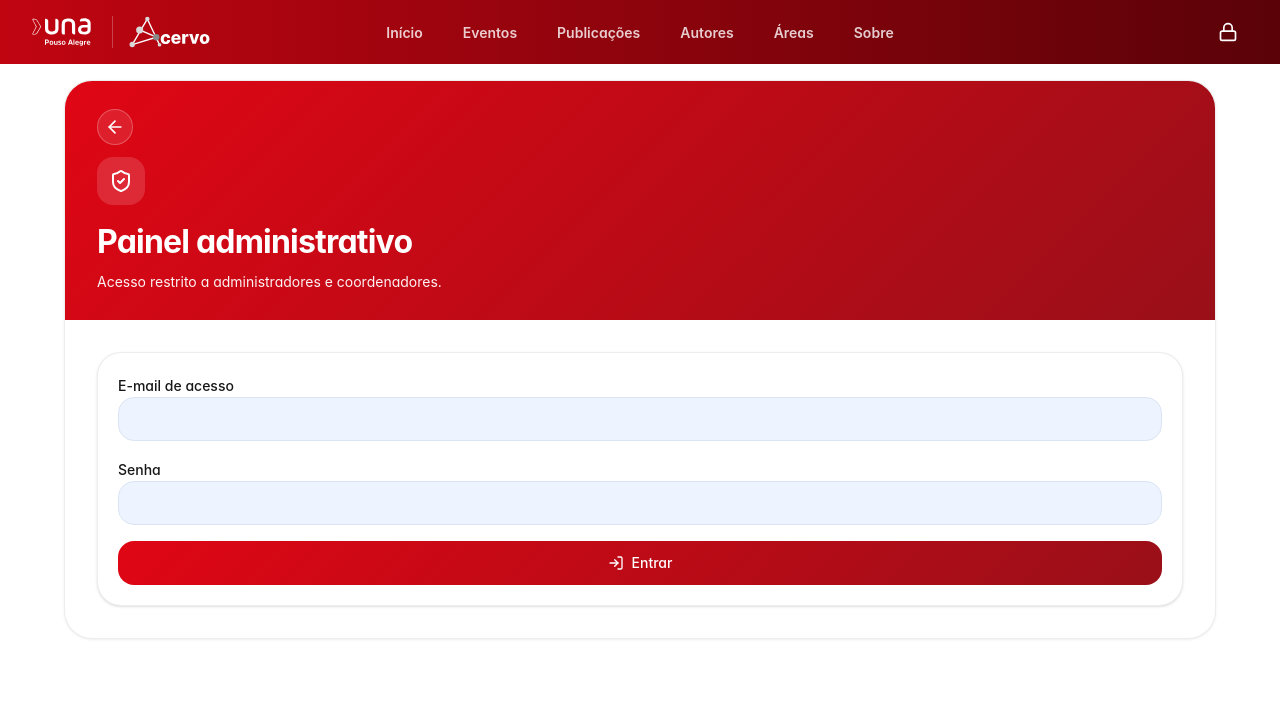
Test case: AdminLogin › shows the lockout timer when the API blocks repeated attempts
The width and height of the screenshot is (1280, 720).
Type "admin@acervo.edu" into the field labelled "E-mail de acesso" at {"x": 640, "y": 419}, box [118,397,1162,441]
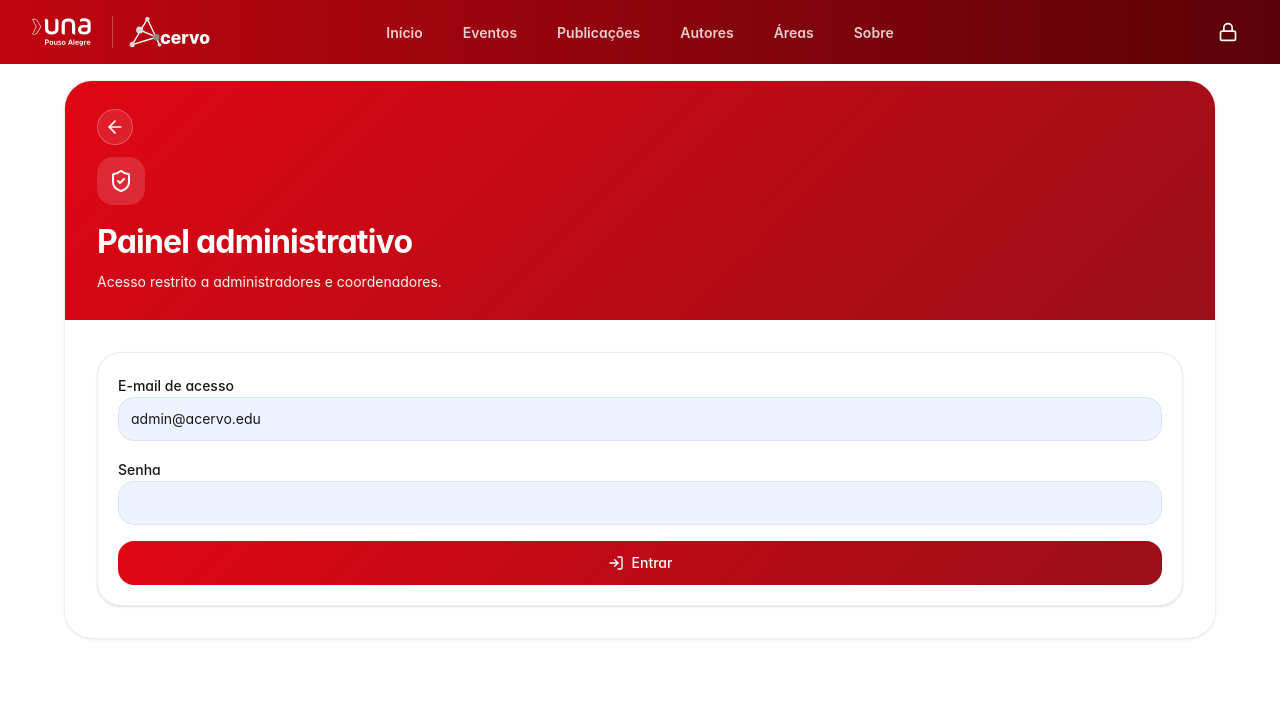
Type "senha-incorreta" into the password field labelled "Senha" at {"x": 640, "y": 503}, box [118,481,1162,525]
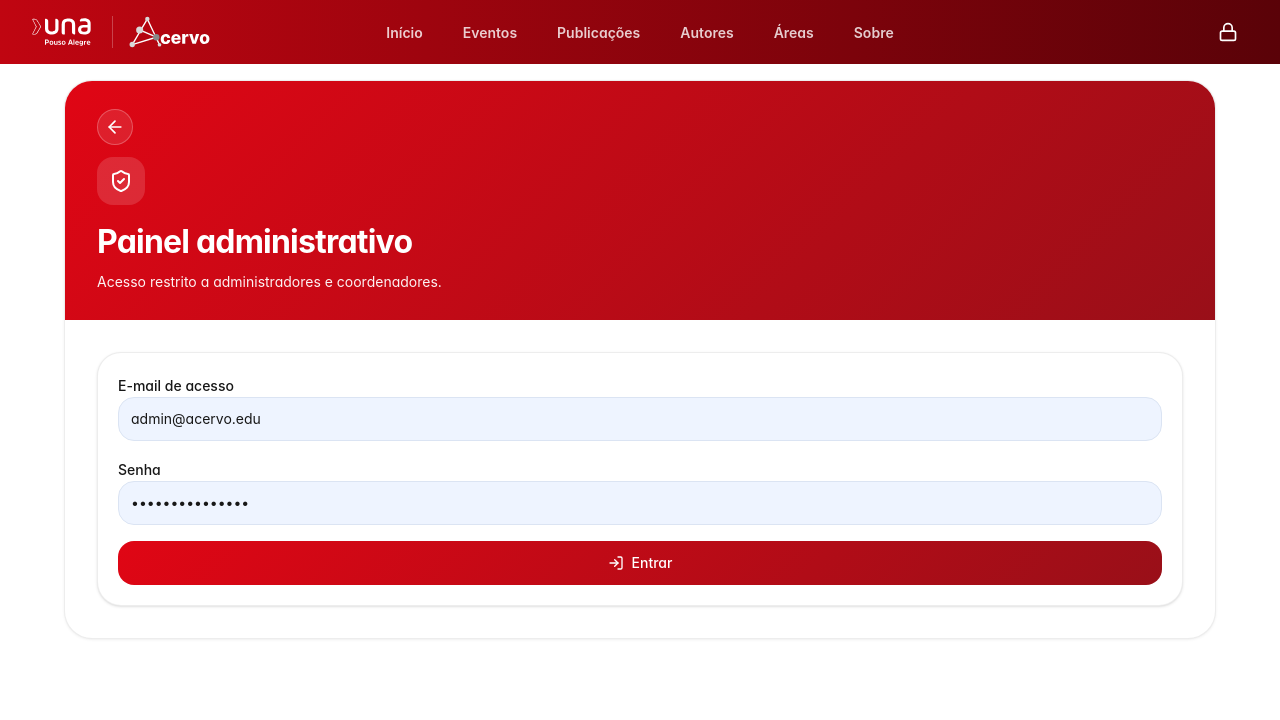
Click the button "Entrar" at {"x": 640, "y": 563}, box [118,541,1162,585]
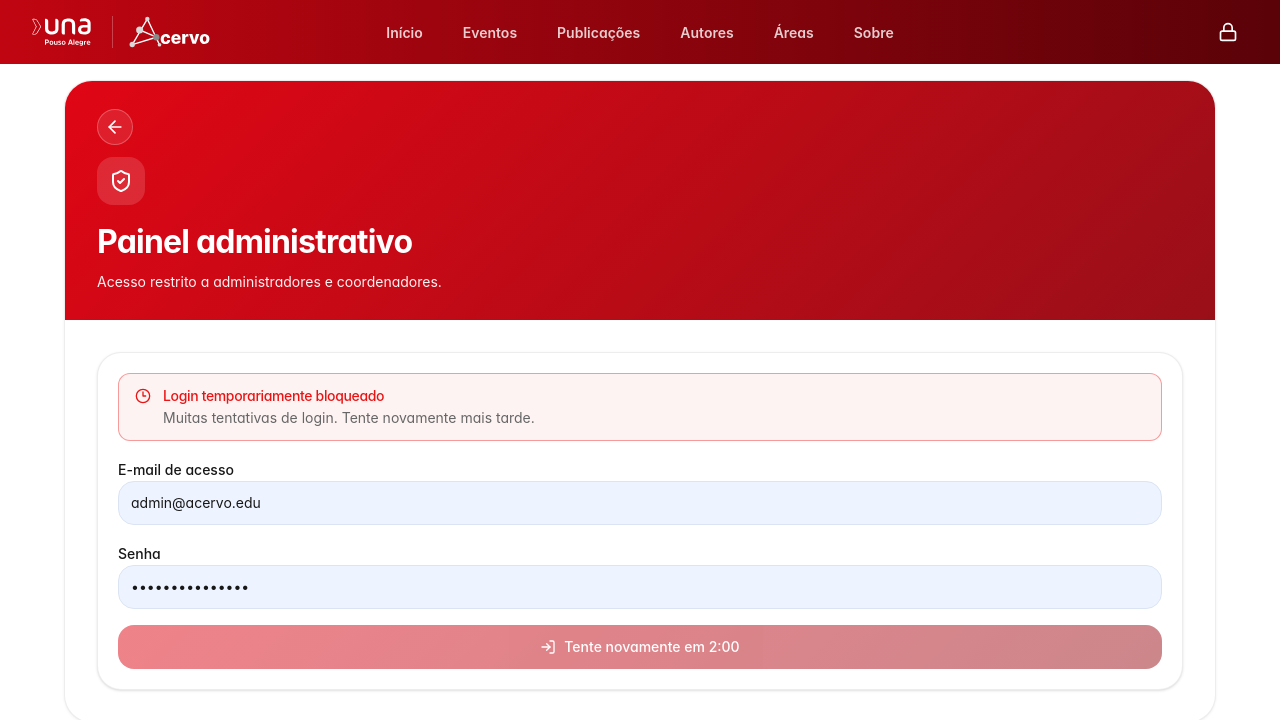
Expected: the heading "Login temporariamente bloqueado" is shown, [163,387,384,404]
Expected: the text "Muitas tentativas de login. Tente novamente mais tarde." is shown, [163,409,535,426]
Expected: the button "Tente novamente em 2:00" is disabled, [118,625,1162,669]
